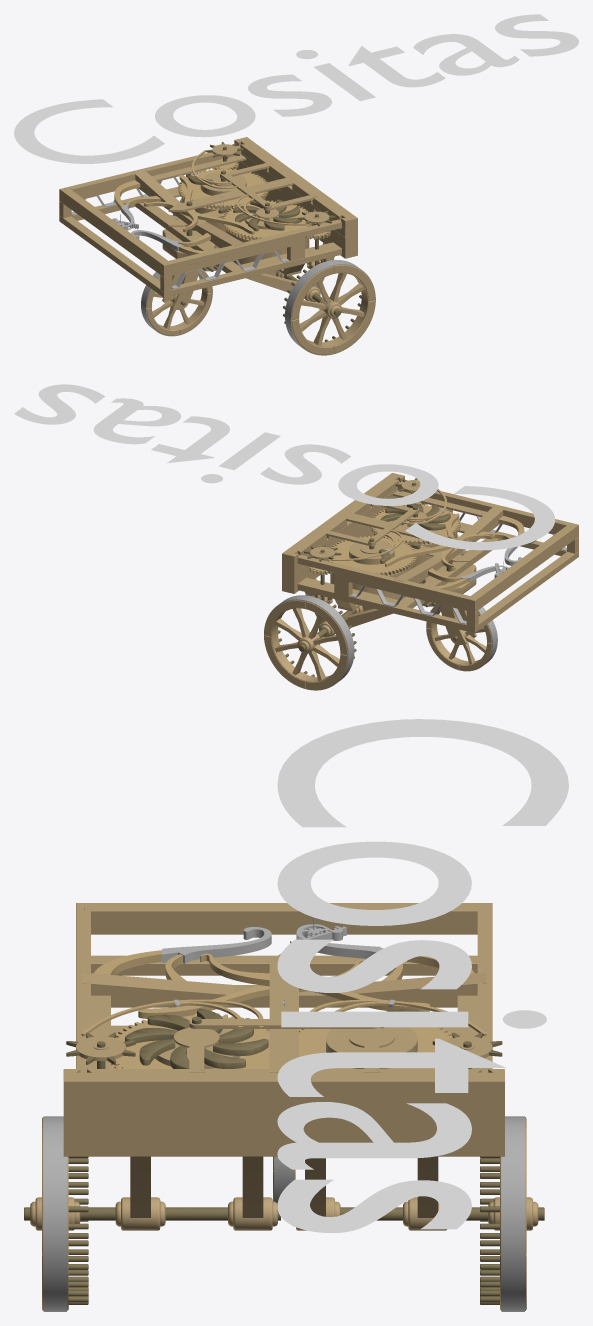
Rendered from CocheDaVinci3.1.glb.
3 views of the same model, one above another, from view 1: azimuth 30°, elevation 25°; view 2: azimuth 150°, elevation 25°; view 3: azimuth 270°, elevation 25° (orthographic). The views are drawn at different scales.
Parts seen in each view (by area): view 1: Texto, A1, A4, A2, A15, A14, A3, MI4-ENGRANAJE, A20, MD4-ENGRANAJE, SUPERIOR5, A7 (+15 smaller); view 2: Texto, A1, A4, A3, A16, A14, MI4-ENGRANAJE, A2, A8, RI_GOMA, A20, A6 (+18 smaller); view 3: Texto, A6, A4, A1, A5, RD-GOMA, RI_GOMA, A14, A19, A21, SUPERIOR5, A3 (+25 smaller).
Boxes of the visible parts, x1,y1,x2,y2 form: Texto: [14, 14, 578, 163]; A1: [59, 188, 169, 277]; A4: [234, 137, 357, 228]; A2: [166, 219, 341, 270]; A15: [168, 246, 341, 296]; A14: [59, 216, 168, 297]; A3: [64, 145, 241, 194]; MI4-ENGRANAJE: [178, 168, 268, 209]; A20: [135, 197, 242, 273]; MD4-ENGRANAJE: [222, 200, 312, 240]; SUPERIOR5: [168, 177, 296, 210]; A7: [168, 237, 304, 276]; Texto: [14, 384, 555, 550]; A1: [469, 524, 578, 612]; A4: [282, 473, 404, 563]; A3: [297, 555, 472, 605]; A16: [297, 581, 470, 631]; A14: [470, 551, 578, 632]; MI4-ENGRANAJE: [327, 536, 416, 575]; A2: [398, 481, 574, 529]; A8: [334, 572, 470, 611]; RI_GOMA: [264, 595, 354, 690]; A20: [396, 532, 503, 608]; A6: [282, 497, 403, 593]; Texto: [277, 719, 568, 1233]; A6: [63, 1115, 504, 1156]; A4: [63, 1069, 504, 1096]; A1: [76, 903, 492, 934]; A5: [63, 1096, 504, 1130]; RD-GOMA: [43, 1116, 66, 1311]; RI_GOMA: [501, 1116, 524, 1311]; A14: [91, 955, 477, 975]; A19: [111, 985, 457, 1007]; A21: [82, 972, 234, 995]; SUPERIOR5: [269, 953, 298, 1072]; A3: [477, 906, 492, 1072].
Bounding box in the file's own units: 2.92 × 0.9943 × 1.31.
